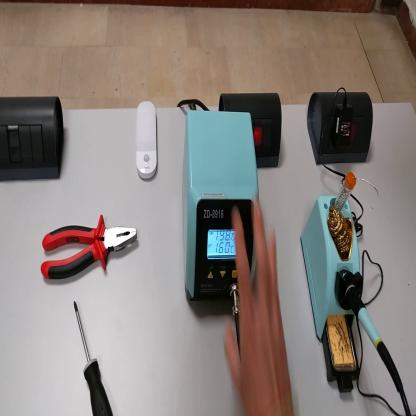hand: (223, 200, 296, 408)
pliers: (39, 207, 140, 283)
screwdriver-: (72, 298, 113, 413)
socket: (306, 75, 370, 170), (215, 87, 285, 169)
welder base: (303, 173, 363, 400)
welder probe tip: (349, 279, 403, 396)
welder station: (181, 109, 260, 303)
